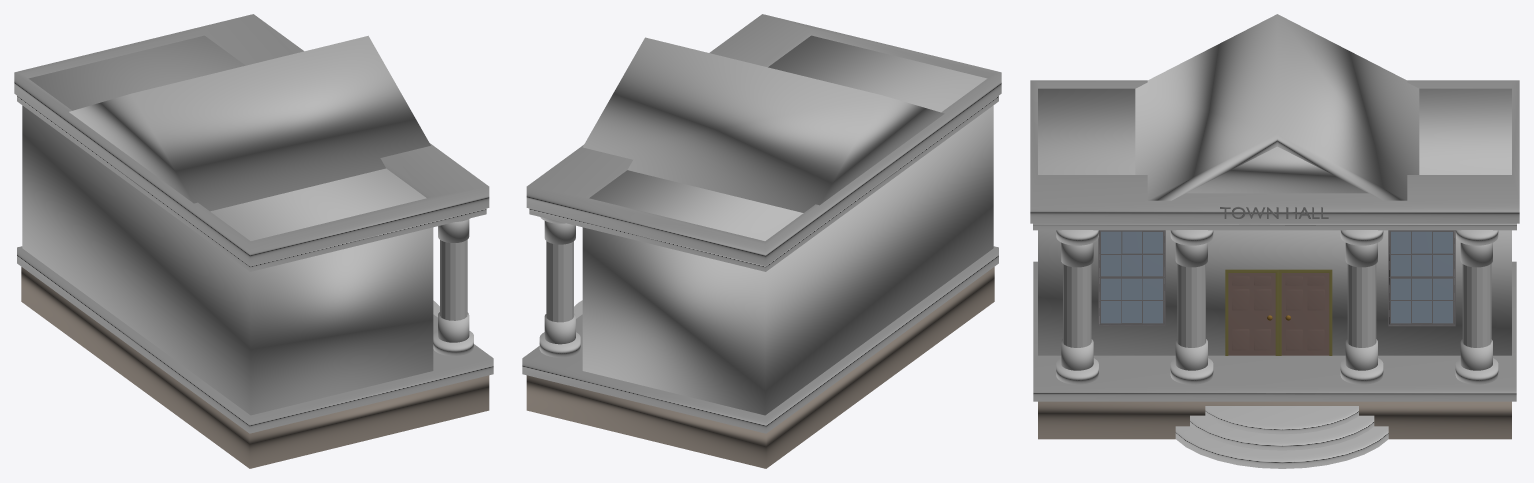
The model's file is townhall.fbx.
The picture shows the model from 3 angles, left to right: view 1: azimuth 30°, elevation 25°; view 2: azimuth 150°, elevation 25°; view 3: azimuth 270°, elevation 25°; orthographic projection. The views are drawn at different scales.
Visible parts, largest first — view 1: Cube.002, Cylinder.001, Cube.003, Cube, Cube.001, Cube.004, Cylinder.012, Cylinder.010, Cylinder.008, Cylinder.009; view 2: Cube.002, Cylinder.001, Cube.003, Cube, Cube.001, Cube.004, Cylinder.002, Cylinder.020, Cylinder.018, Cylinder.019; view 3: Cube.002, Cylinder.001, Cube.003, Cube.001, Cube, Cube.013, Cube.007, Cube.005, Cube.014, Cylinder, Cylinder.023, Cube.004 (+29 smaller).
Boxes of the visible parts, x1,y1,x2,y2 form: Cube.002: (22,35,433,415); Cylinder.001: (69,35,430,211); Cube.003: (14,14,489,265); Cube: (21,267,489,468); Cube.001: (17,246,493,433); Cube.004: (17,96,486,271); Cylinder.012: (440,239,467,320); Cylinder.010: (438,312,469,342); Cylinder.008: (433,330,473,355); Cylinder.009: (438,219,469,242); Cube.002: (582,35,993,415); Cylinder.001: (582,37,944,212); Cube.003: (526,14,1001,265); Cube: (526,267,994,468); Cube.001: (522,246,998,433); Cube.004: (529,96,998,271); Cylinder.002: (546,241,573,322); Cylinder.020: (544,313,575,344); Cylinder.018: (539,332,580,357); Cylinder.019: (544,221,575,244); Cube.002: (1038,88,1511,355); Cylinder.001: (1135,14,1419,200); Cube.003: (1030,80,1519,223); Cube.001: (1033,261,1516,401); Cube: (1038,401,1511,439); Cube.013: (1388,230,1455,326); Cube.007: (1098,230,1165,326); Cube.005: (1101,231,1162,323); Cube.014: (1391,231,1452,323); Cylinder: (1186,146,1368,193); Cylinder.023: (1175,426,1388,468); Cube.004: (1033,223,1516,230).
Size of the model in its own units: 342 by 316 by 463.
